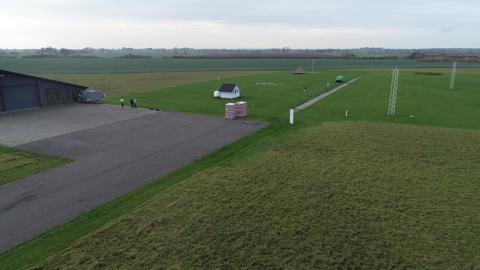RockwoolPallet: (235, 101, 247, 116)
